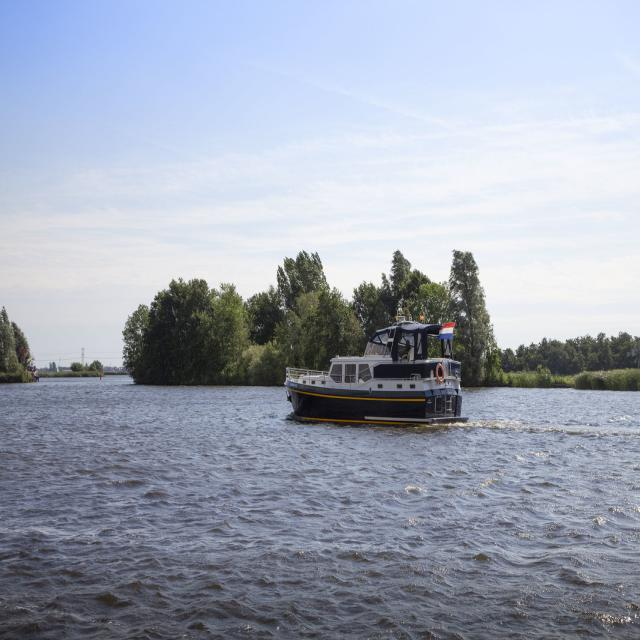houseboat: (270, 313, 461, 423)
